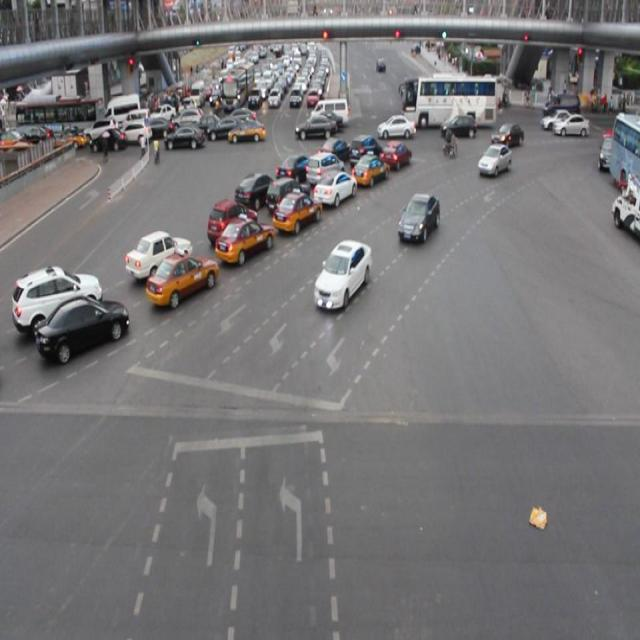car: (33, 296, 134, 362), (12, 266, 104, 336), (310, 238, 373, 314), (145, 253, 221, 304), (123, 228, 194, 282), (213, 217, 276, 264), (204, 198, 259, 242), (270, 188, 323, 232), (396, 192, 440, 245), (263, 174, 311, 215), (312, 170, 358, 208), (234, 173, 277, 209), (476, 142, 513, 183), (306, 150, 345, 188), (350, 150, 389, 188), (274, 154, 314, 191), (348, 132, 383, 169), (378, 139, 412, 174), (488, 119, 524, 152), (316, 135, 354, 166)
